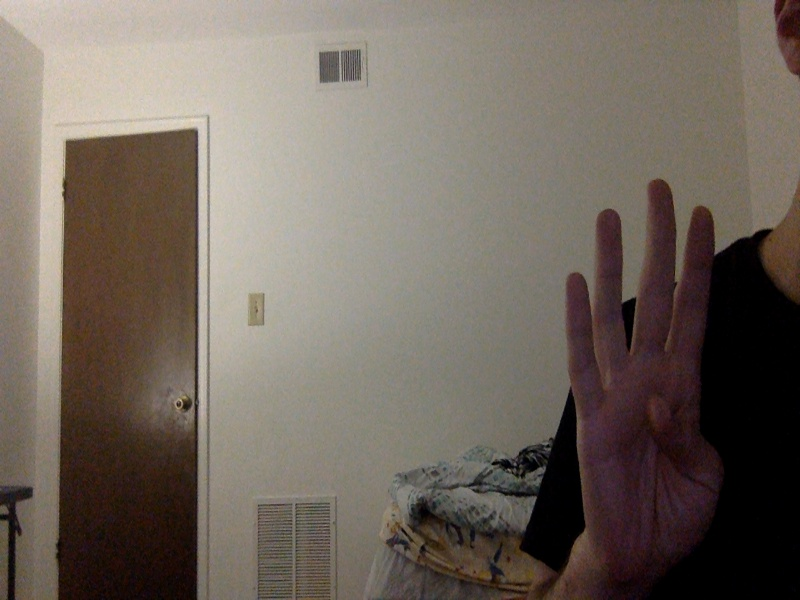4-hand: (563, 181, 721, 573)
